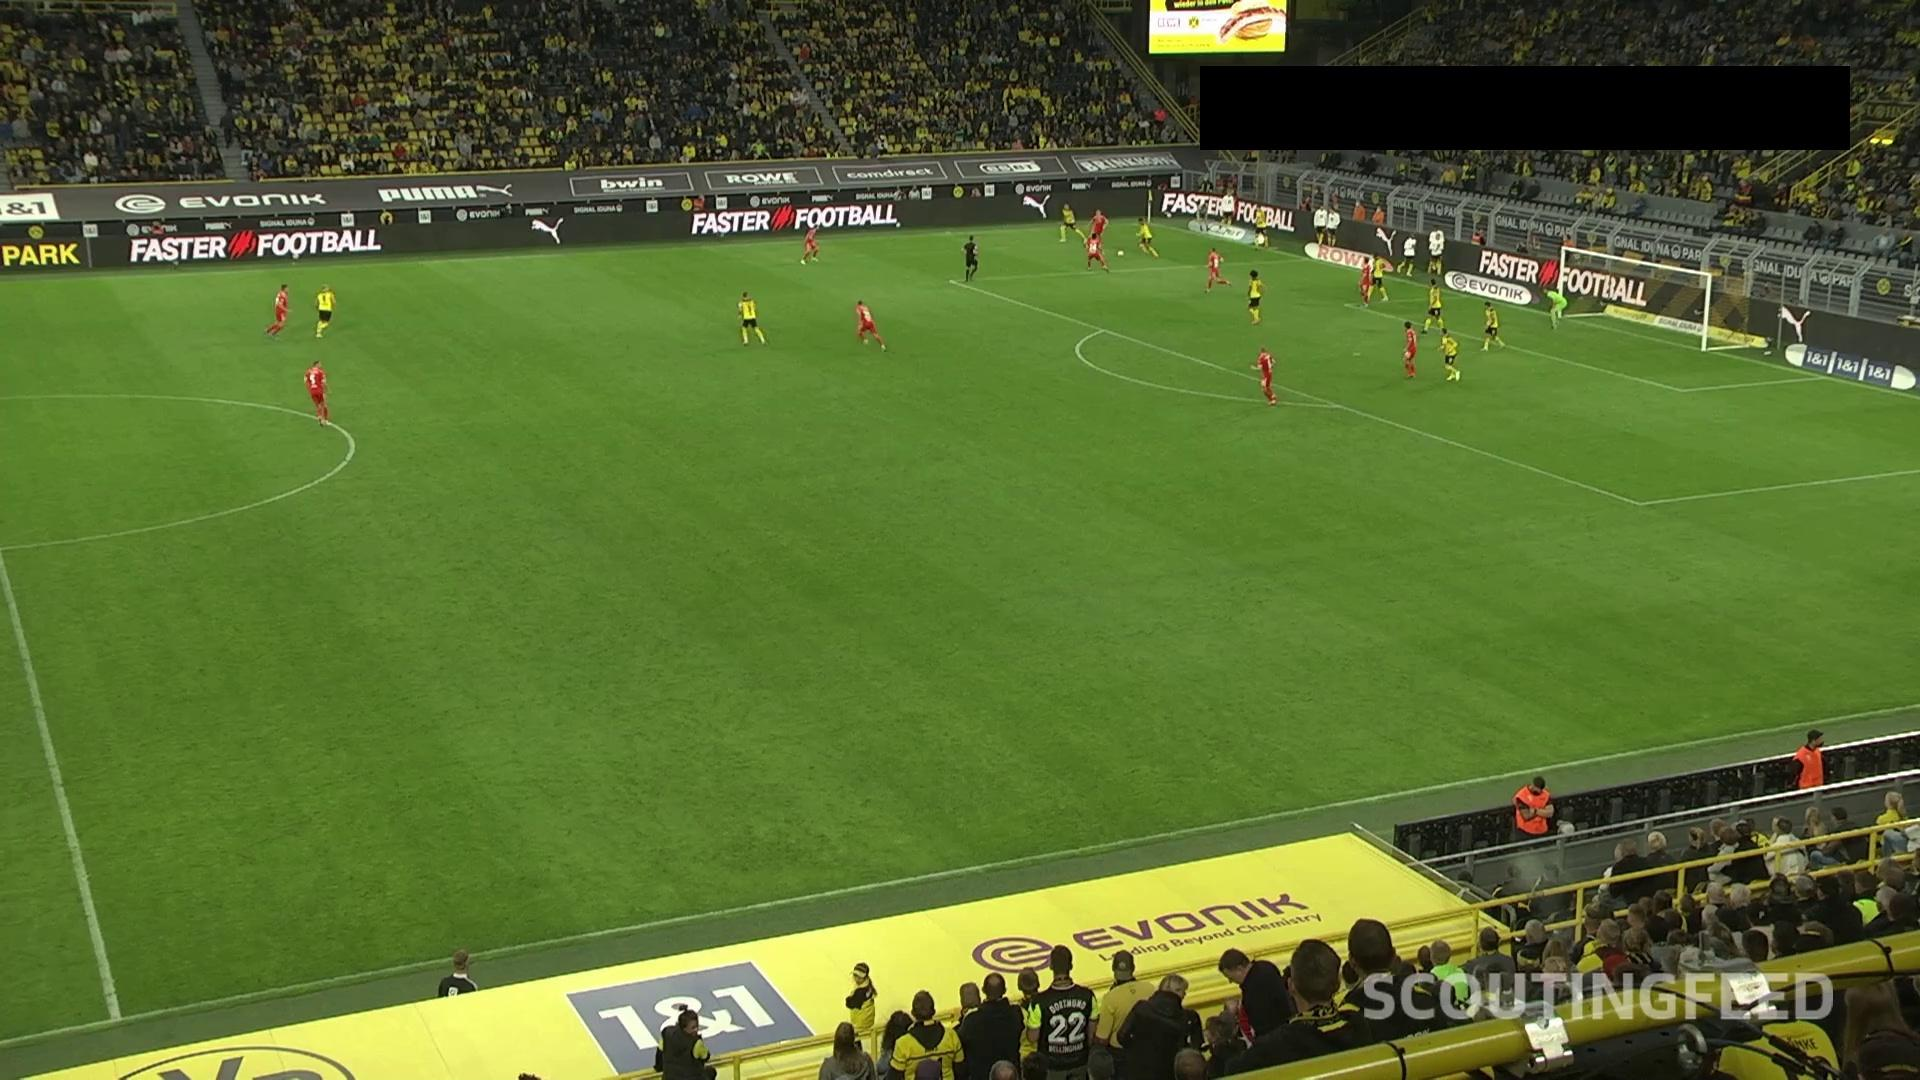Location-of-ball: (1106, 244, 1141, 268)
